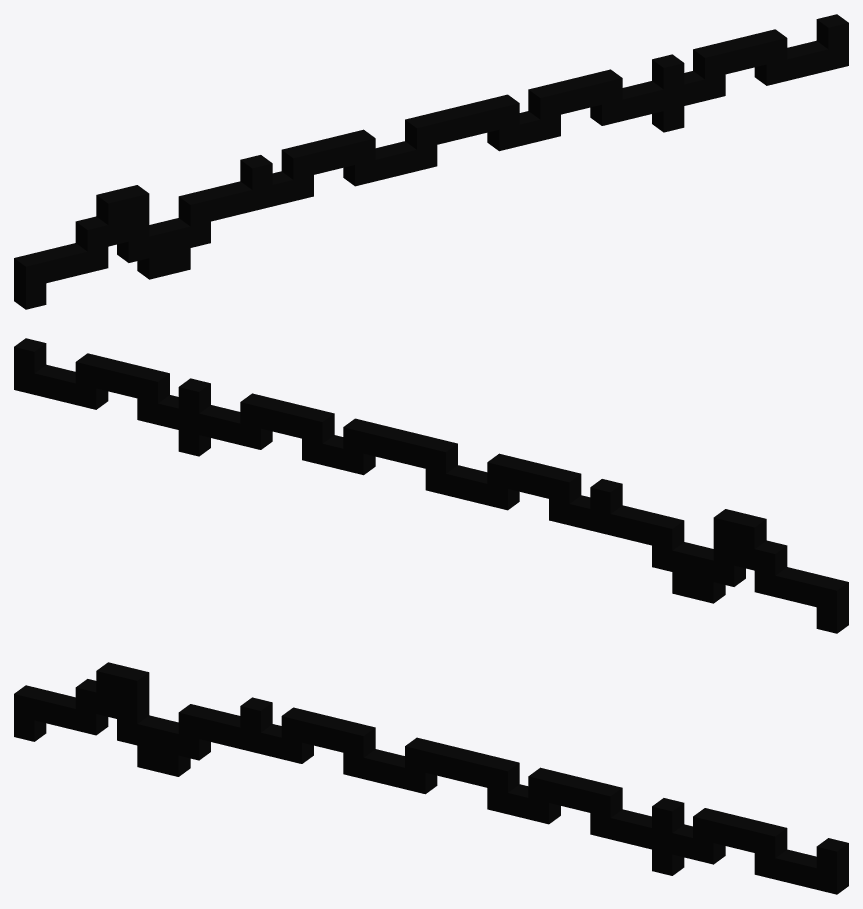
File: Gauge_Gore_Long_Empty.002.fbx
3 renders of one model, top to bottom at view 1: azimuth 30°, elevation 25°; view 2: azimuth 150°, elevation 25°; view 3: azimuth 330°, elevation 25°, orthographic.
Visible parts, largest first — view 1: Gauge_Gore_Long_Empty.002; view 2: Gauge_Gore_Long_Empty.002; view 3: Gauge_Gore_Long_Empty.002.
Boxes of the visible parts, <box> form: Gauge_Gore_Long_Empty.002: <box>14,14,848,309</box>; Gauge_Gore_Long_Empty.002: <box>14,338,848,633</box>; Gauge_Gore_Long_Empty.002: <box>14,662,848,894</box>.
Size of the model in its own units: 4 by 0.4 by 0.1.
